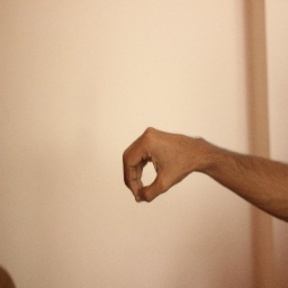O: (119, 122, 202, 207)
